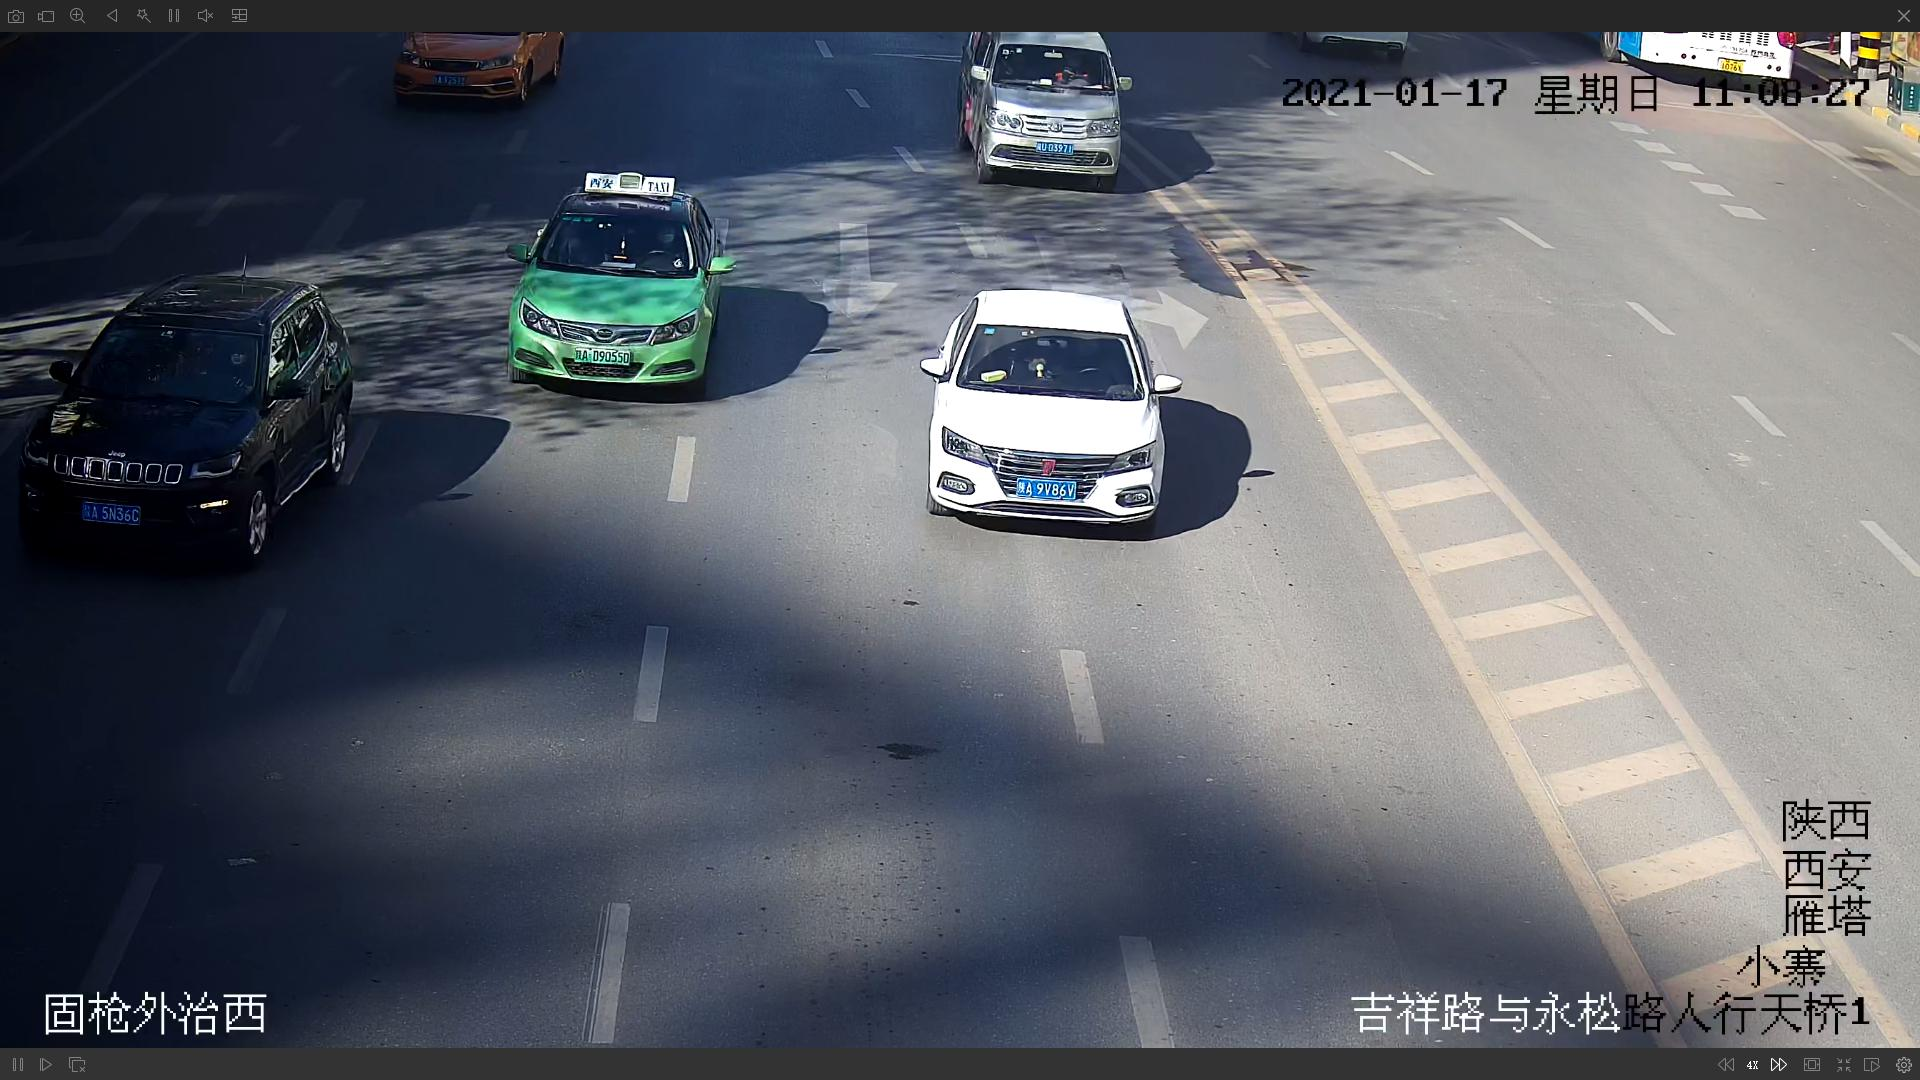black: (17, 285, 357, 564)
grass-green: (502, 175, 729, 392)
silver-gray: (955, 32, 1131, 183)
white: (923, 287, 1180, 549)
